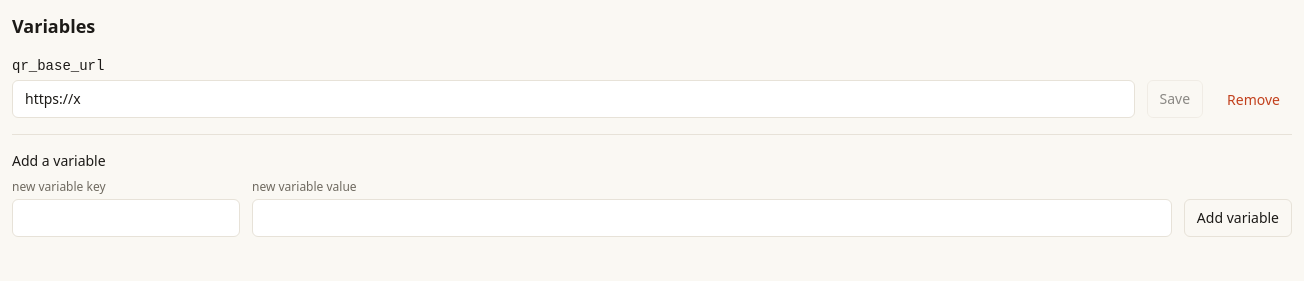
Test case: VariablesSection › rejects adding a key that already exists (would strand its row)
Check: the field labelled "qr_base_url" is shown, box 12,80 -> 1134,118
Type "qr_base_url" into the field labelled "new variable key" at (126, 218), box 12,199 -> 240,237
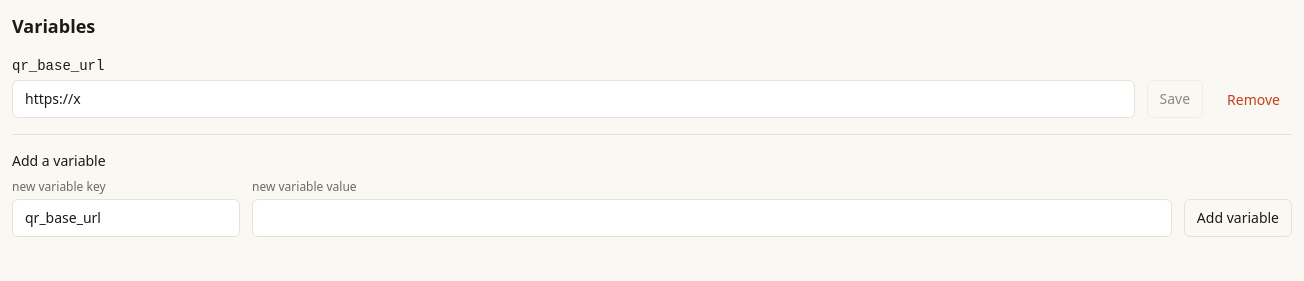
Type "y" into the field labelled "new variable value" at (712, 218), box 252,199 -> 1172,237
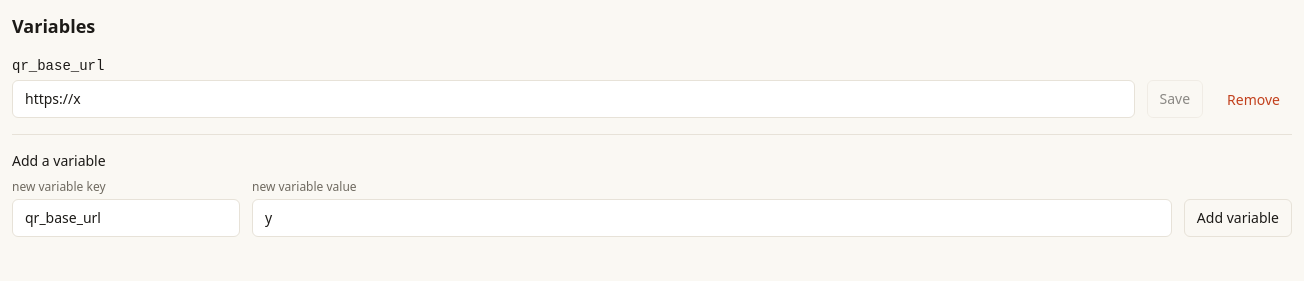
Click the button "Add variable" at (1238, 218), box 1184,199 -> 1292,237
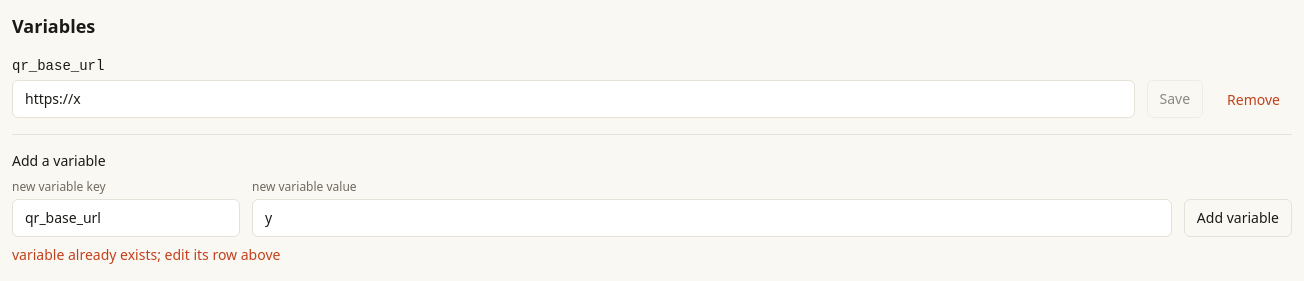
Check: the text "variable already exists; edit its row above" is shown, box 12,245 -> 280,264
